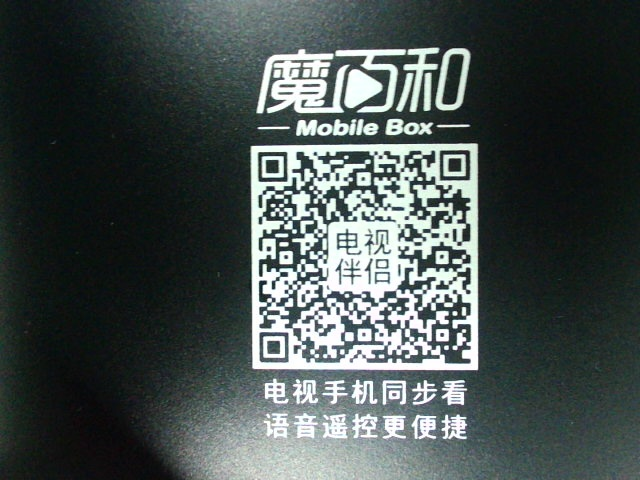AZ_MobileBox: (241, 41, 489, 441)
